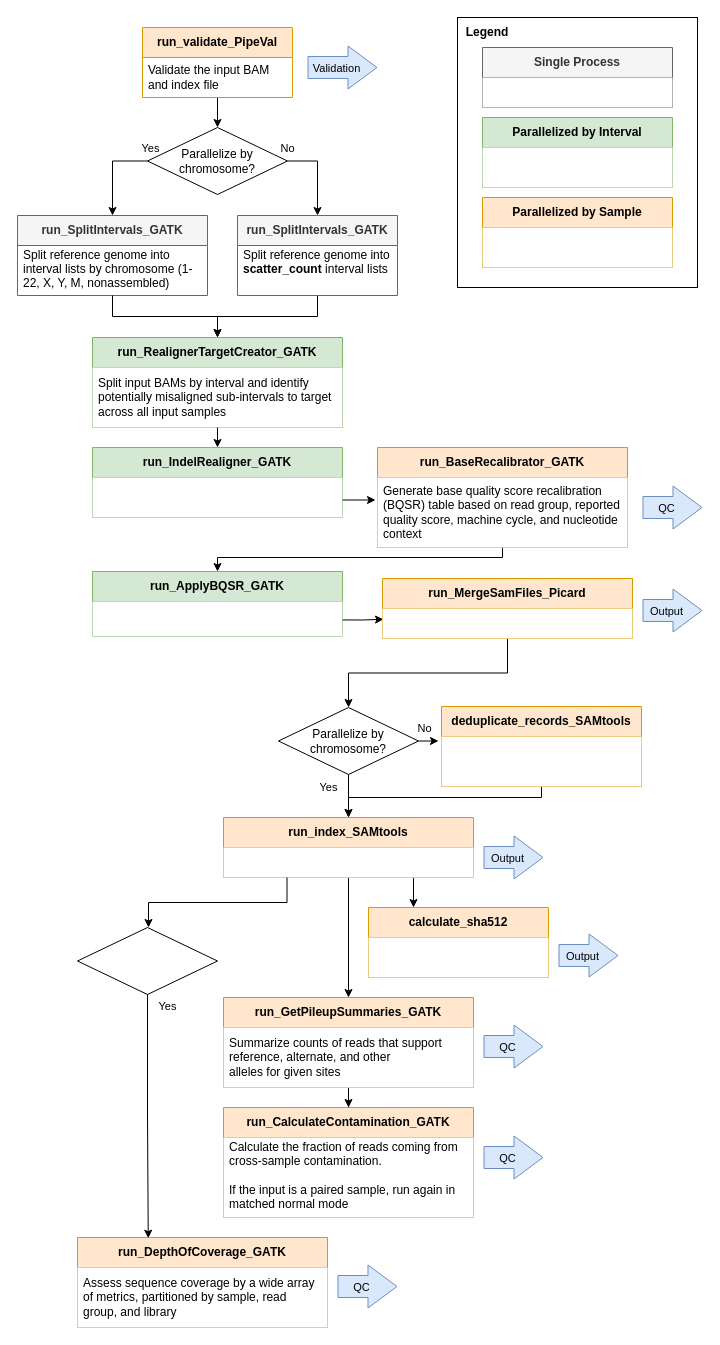
Some shapes in this 720 by 1345 pixel diagram are drawn without their labels. The shapes that lost their labels are listed below. From the top down, each one's centre as x and y in pixels, then its label:
At (x=577, y=92): "This process is run exactly once.".
At (x=577, y=167): "This process is repeated once for each interval.".
At (x=577, y=247): "This process is repeated once for each input sample.".
At (x=217, y=497): "Realign indels across all input samples simultaneously".
At (x=217, y=618): "Apply the recalibration to each input sample sequentially".
At (x=507, y=623): "Merge interval BAMs into recalibrated BAM".
At (x=541, y=761): "Remove duplicate reads due to overlap on interval splitting sites".
At (x=348, y=862): "Create index file for recalibrated BAM".
At (x=147, y=960): "Compute depth of coverage?".
At (x=458, y=957): "Generate sha512 checksum for recalibrated BAM and index file".
